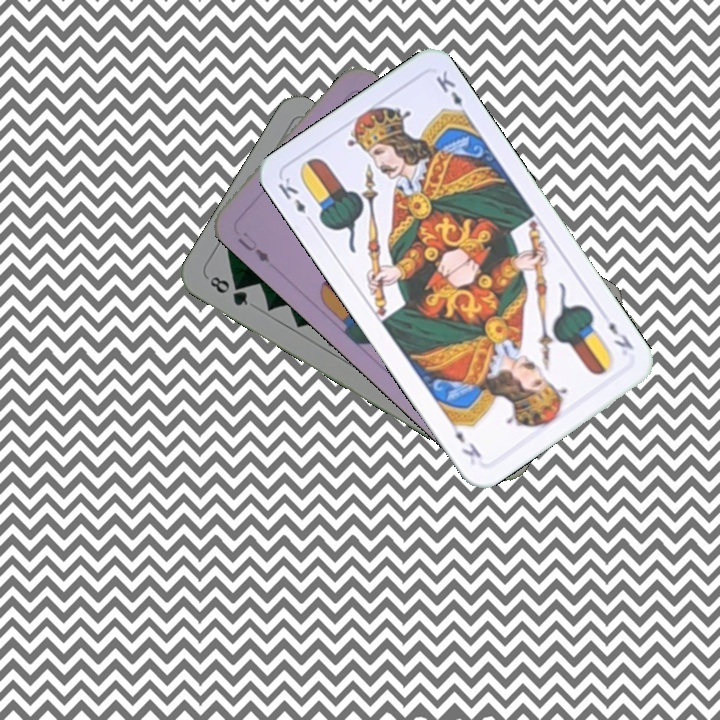EK: (274, 173, 317, 228), (604, 317, 637, 353)
EU: (233, 228, 273, 266)
G8: (205, 272, 251, 309)
